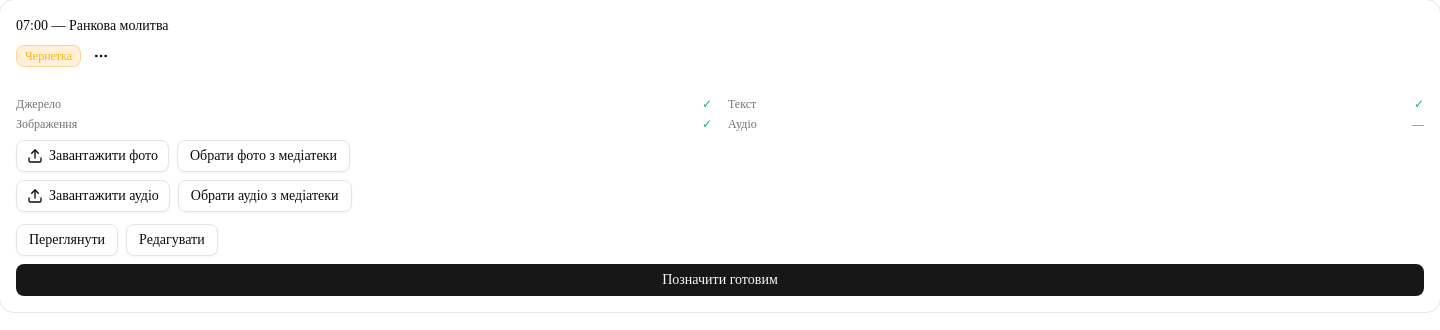
Test case: SlotCard › only offers 'Перегенерувати фото' once an image exists
Click the button named "Додаткові дії": (101, 56) [85,40,117,72]
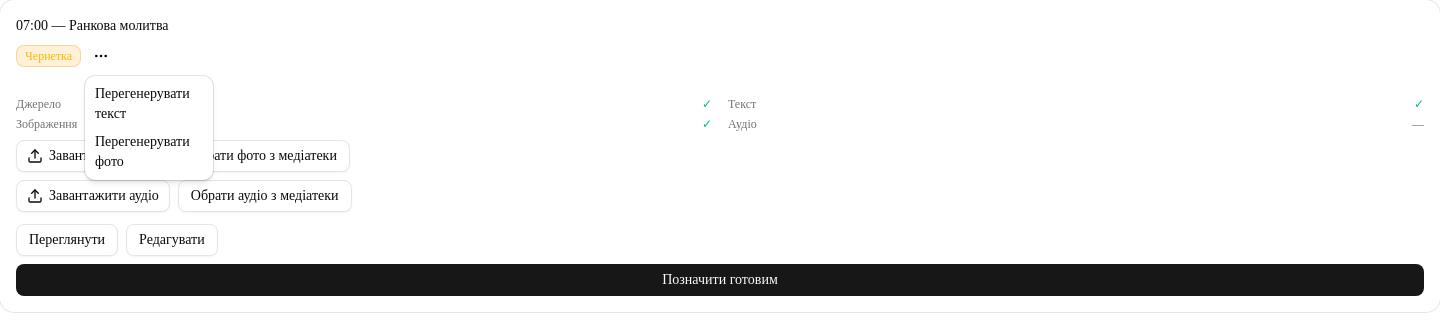
Expected: the menu item "Перегенерувати текст" is shown, [95,86,190,121]
Expected: the menu item "Перегенерувати фото" is shown, [95,134,190,169]
